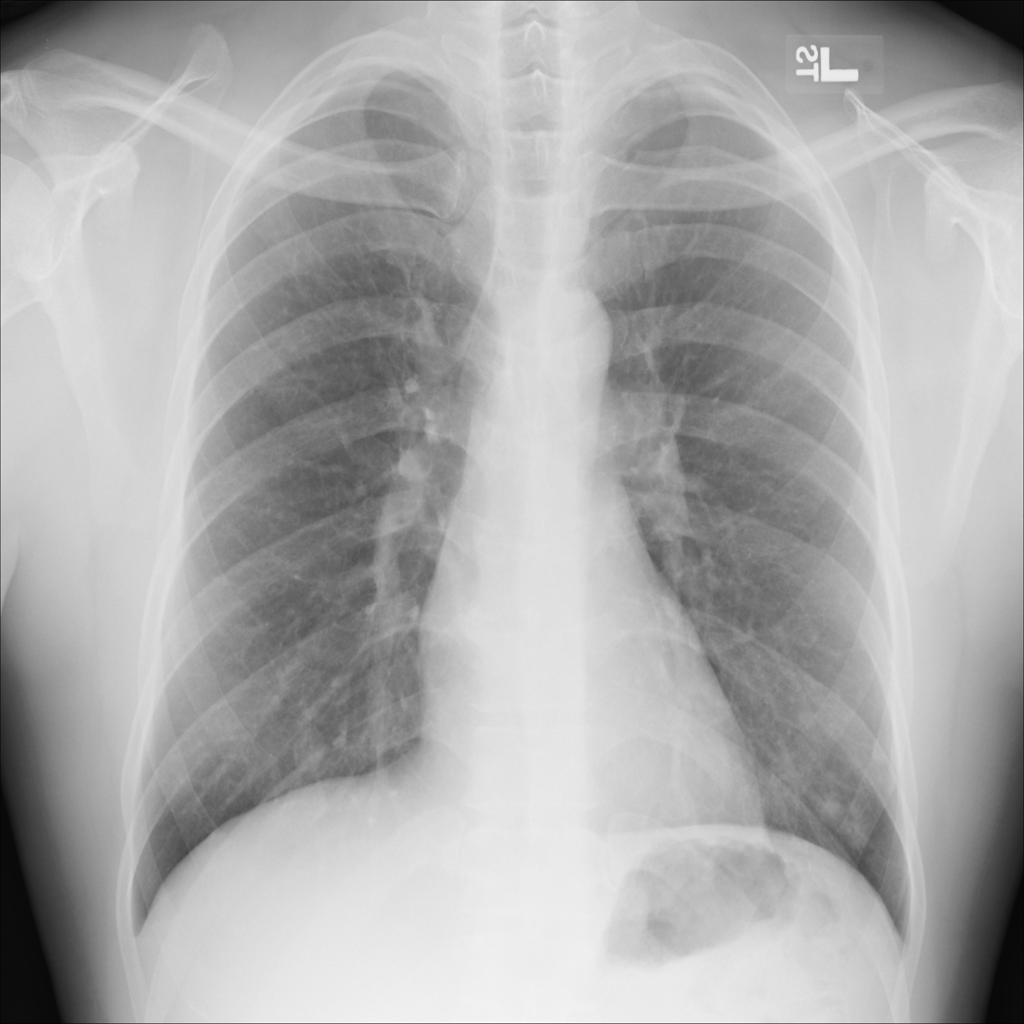nodule: (277, 709, 345, 788), (808, 766, 872, 845), (788, 689, 834, 745), (857, 724, 903, 779)
